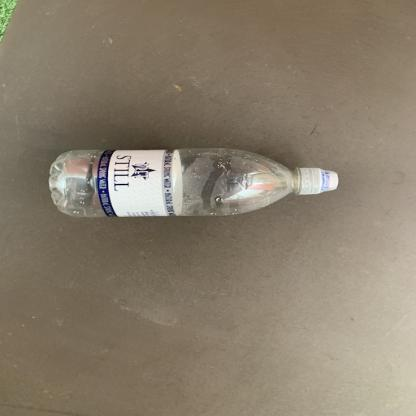trash: (49, 148, 343, 218)
